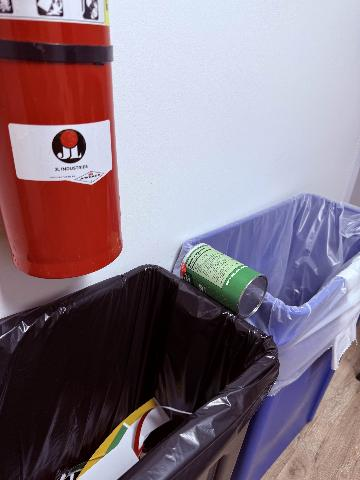Green Can: (181, 244, 267, 318)
